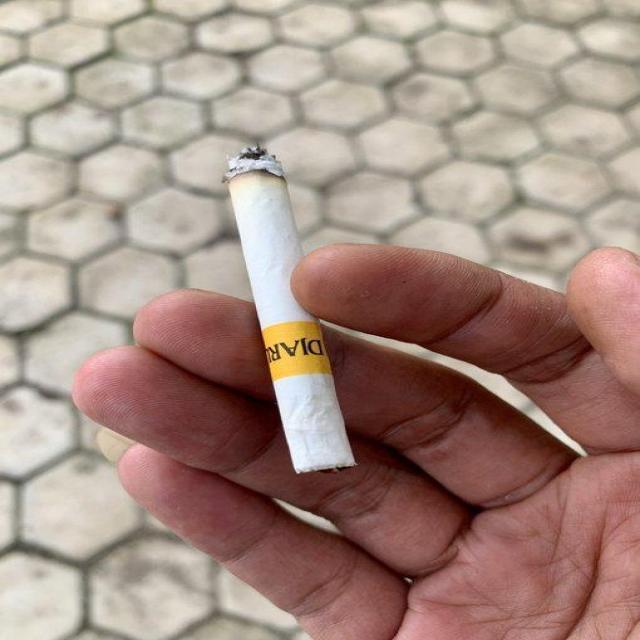rokok: (218, 145, 360, 475)
